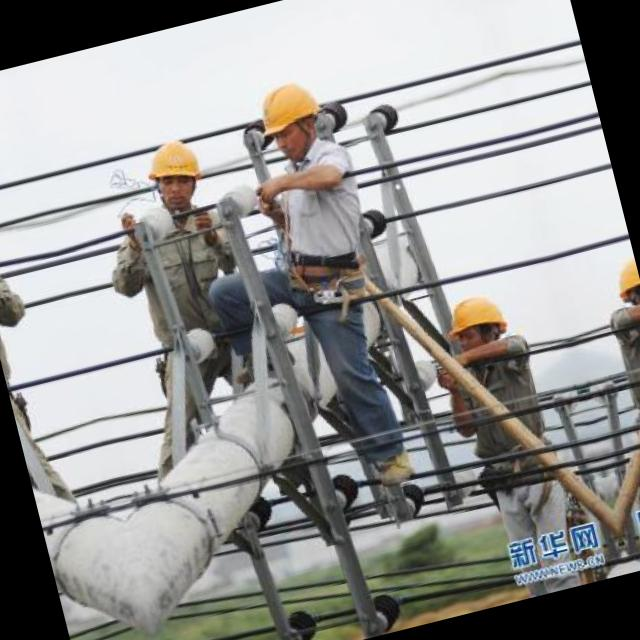helmet: (434, 280, 524, 378), (246, 67, 334, 166), (134, 128, 212, 218), (599, 249, 640, 337)
